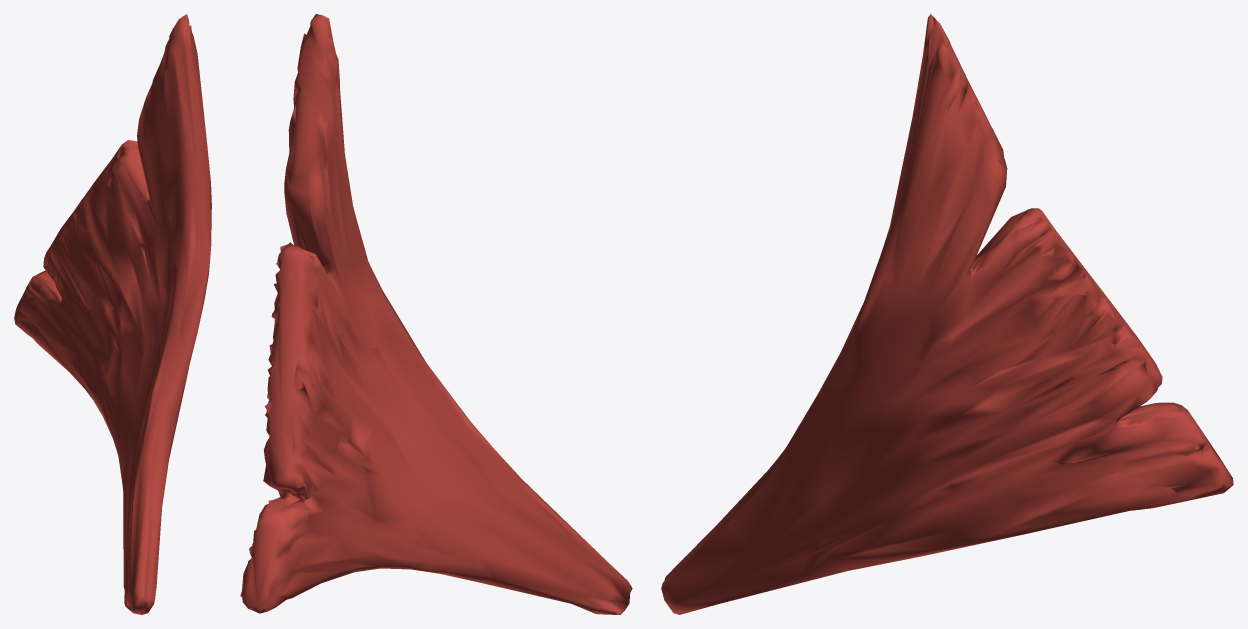
Rendered from musculos-thyro-epiglottic-part-of-thyro-arytenoid-muscle-l.glb.
3 views of the same model, side by side, from view 1: azimuth 30°, elevation 25°; view 2: azimuth 150°, elevation 25°; view 3: azimuth 270°, elevation 25° (orthographic). The views are drawn at different scales.
Visible parts, largest first — view 1: Thyro-epiglottic part of thyro-arytenoid muscle.l; view 2: Thyro-epiglottic part of thyro-arytenoid muscle.l; view 3: Thyro-epiglottic part of thyro-arytenoid muscle.l.
Part boxes in pixels (<box>): Thyro-epiglottic part of thyro-arytenoid muscle.l: <box>14,14,211,614</box>; Thyro-epiglottic part of thyro-arytenoid muscle.l: <box>240,14,632,614</box>; Thyro-epiglottic part of thyro-arytenoid muscle.l: <box>661,14,1233,614</box>.
Bounding box in the file's own units: 0.00848 × 0.0249 × 0.0188.
